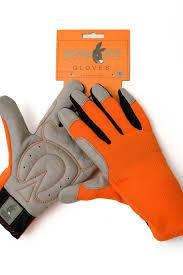gloves: (1, 78, 99, 240)
